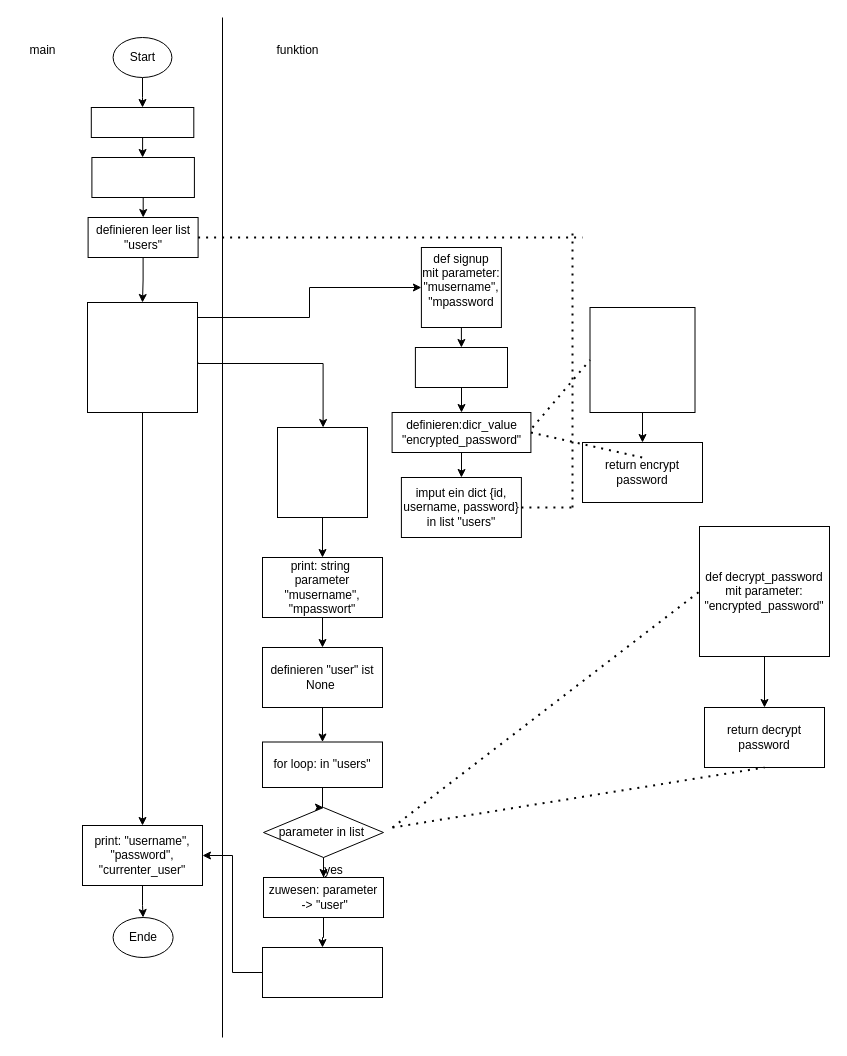
Image size: 847x1056. Some labels were removed from this diagram. Here are the shapes that lost their labels. From the top down, the centre of each, then its label:
(x=142, y=122): import "Fermat"
(x=142, y=177): definieren und zuweisen "key" und "cipher"
(x=142, y=357): input: string "username" input: string "passwort"
(x=461, y=367): definieren: int "new_user_id"
(x=642, y=359): def encrypt_password mit parameter: "password"
(x=322, y=472): def login mit parameter: "musername", "mpassword"
(x=322, y=972): return "user" -> "currenter_user"
